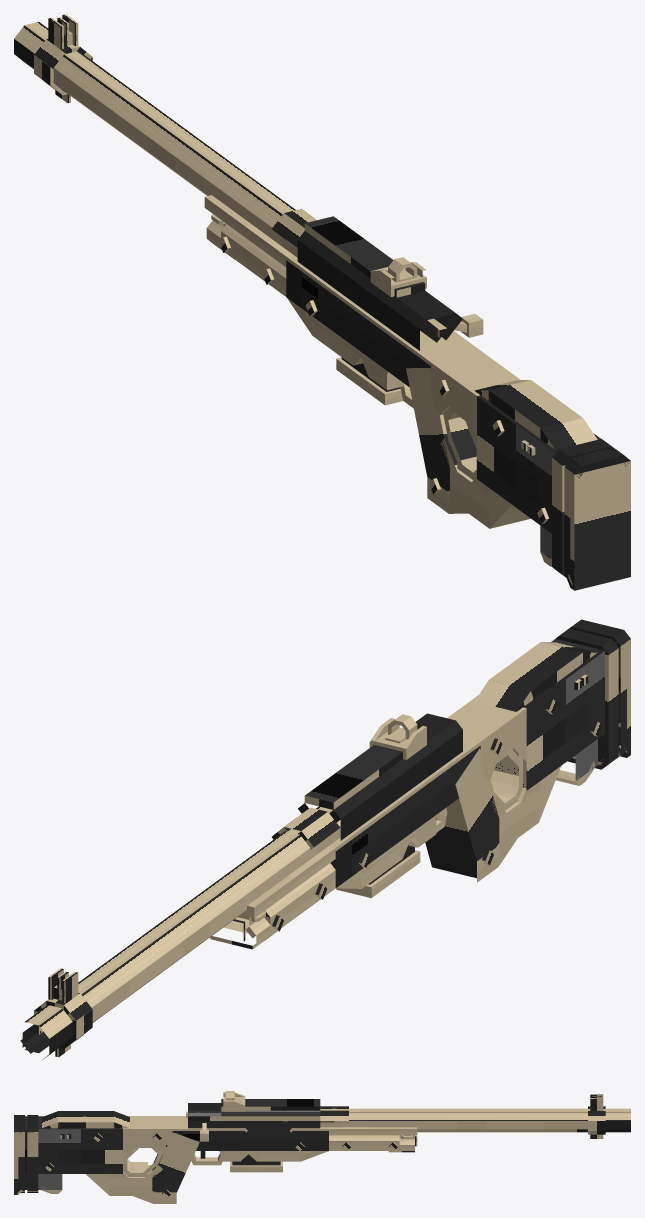
The model's file is mteg_awp.glb.
3 renders of one model, top to bottom at view 1: azimuth 30°, elevation 25°; view 2: azimuth 150°, elevation 25°; view 3: azimuth 270°, elevation 25°, orthographic. The views are drawn at different scales.
Parts seen in each view (by area): view 1: Gun; view 2: Gun; view 3: Gun.
Boxes of the visible parts, left/top/right/bottom form: Gun: left=14, top=14, right=630, bottom=590; Gun: left=20, top=619, right=630, bottom=1059; Gun: left=14, top=1091, right=630, bottom=1203.
Size of the model in its own units: 0.1433 by 0.3296 by 1.75.
Materials: 1 (1 with a texture image).
